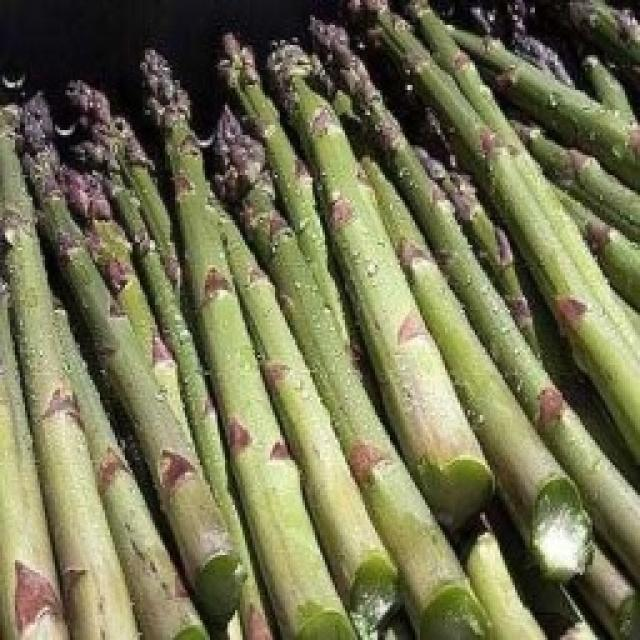Asparagus spear: (457, 20, 640, 505), (300, 46, 427, 512), (0, 98, 82, 640), (157, 11, 222, 586)
